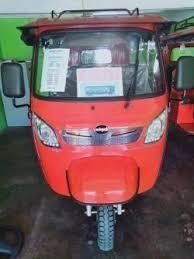keke: (16, 6, 178, 253)
